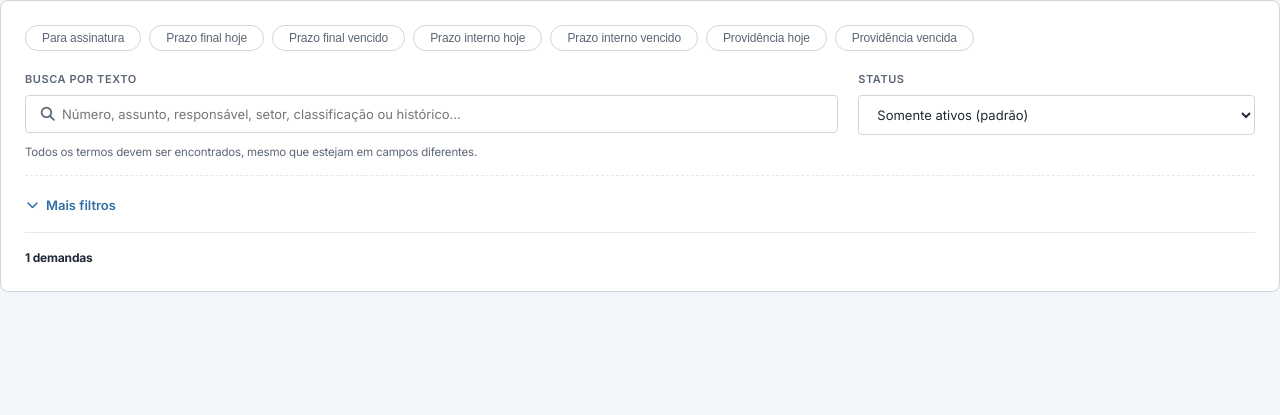
Test: FilterPanel — busca avançada › permite reutilizar e confirmar uma busca recente
Focus the dropdown labelled "Busca por texto": [432, 114] box [25,95,838,133]
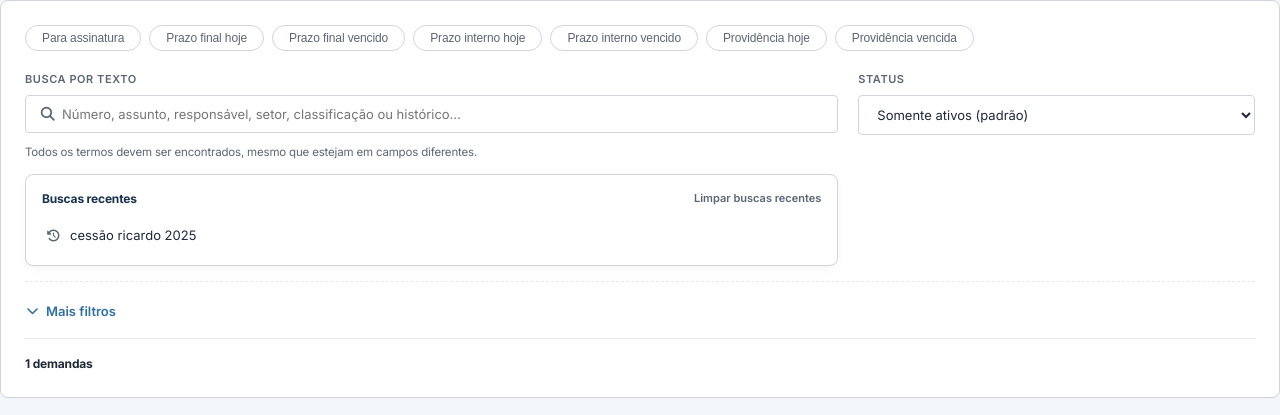
Click the button "cessão ricardo 2025": [133, 235] box [36,216,827,255]
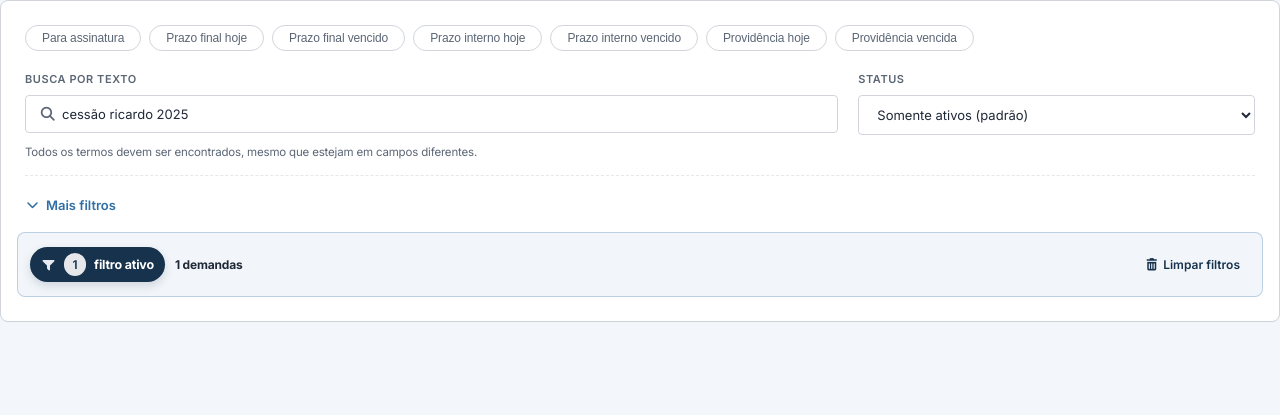
Expected: the dropdown labelled "Busca por texto" holds "cessão ricardo 2025", [25,95,838,133]
